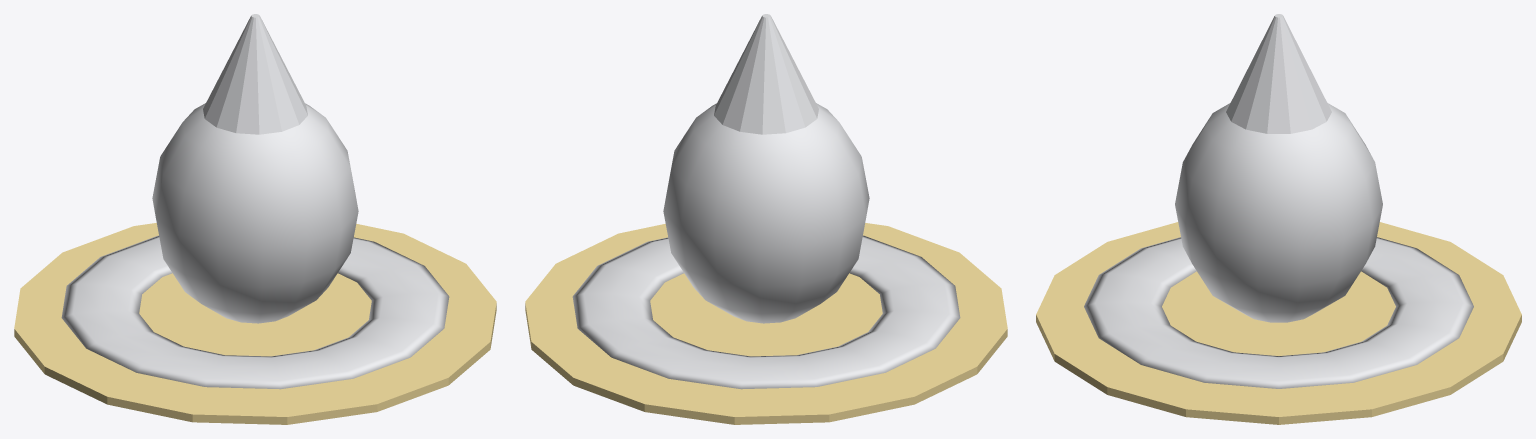
Rendered from chrome-droplet.glb.
3 renders of one model, left to right at view 1: azimuth 30°, elevation 25°; view 2: azimuth 150°, elevation 25°; view 3: azimuth 270°, elevation 25°, orthographic.
Visible parts, largest first — view 1: chrome_Glow, chrome_DropBase, chrome_SplashRing, chrome_DropTip; view 2: chrome_Glow, chrome_DropBase, chrome_SplashRing, chrome_DropTip; view 3: chrome_Glow, chrome_DropBase, chrome_SplashRing, chrome_DropTip.
Part boxes in pixels (left/top/right/bottom): chrome_Glow: left=14, top=223, right=496, bottom=424; chrome_DropBase: left=152, top=103, right=358, bottom=323; chrome_SplashRing: left=61, top=235, right=449, bottom=389; chrome_DropTip: left=203, top=14, right=307, bottom=134; chrome_Glow: left=525, top=223, right=1007, bottom=424; chrome_DropBase: left=663, top=103, right=869, bottom=323; chrome_SplashRing: left=572, top=235, right=960, bottom=389; chrome_DropTip: left=714, top=14, right=818, bottom=134; chrome_Glow: left=1036, top=222, right=1521, bottom=424; chrome_DropBase: left=1175, top=103, right=1382, bottom=322; chrome_SplashRing: left=1084, top=237, right=1473, bottom=388; chrome_DropTip: left=1226, top=14, right=1331, bottom=133.
Bounding box in the file's own units: 0.56 × 0.39 × 0.56.
